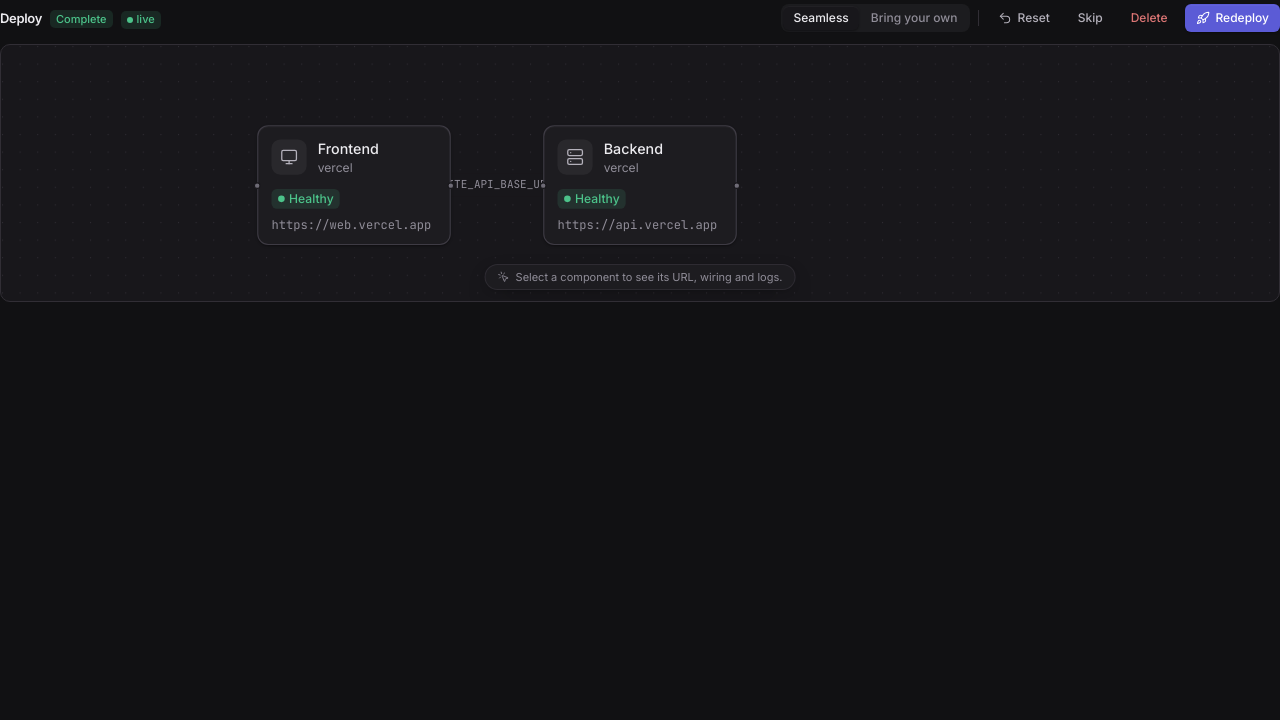
Test: deleting a deployment › deletes on confirm and returns the panel to its un-deployed state
Expected: the button with test id "deploy-run" reads "Redeploy", [1184,4,1279,32]
What coordinates should you click on to do the following:
click the button with test id "deploy-delete"
I would click on:
 (1149, 18)
Its box is [1120,4,1178,32].
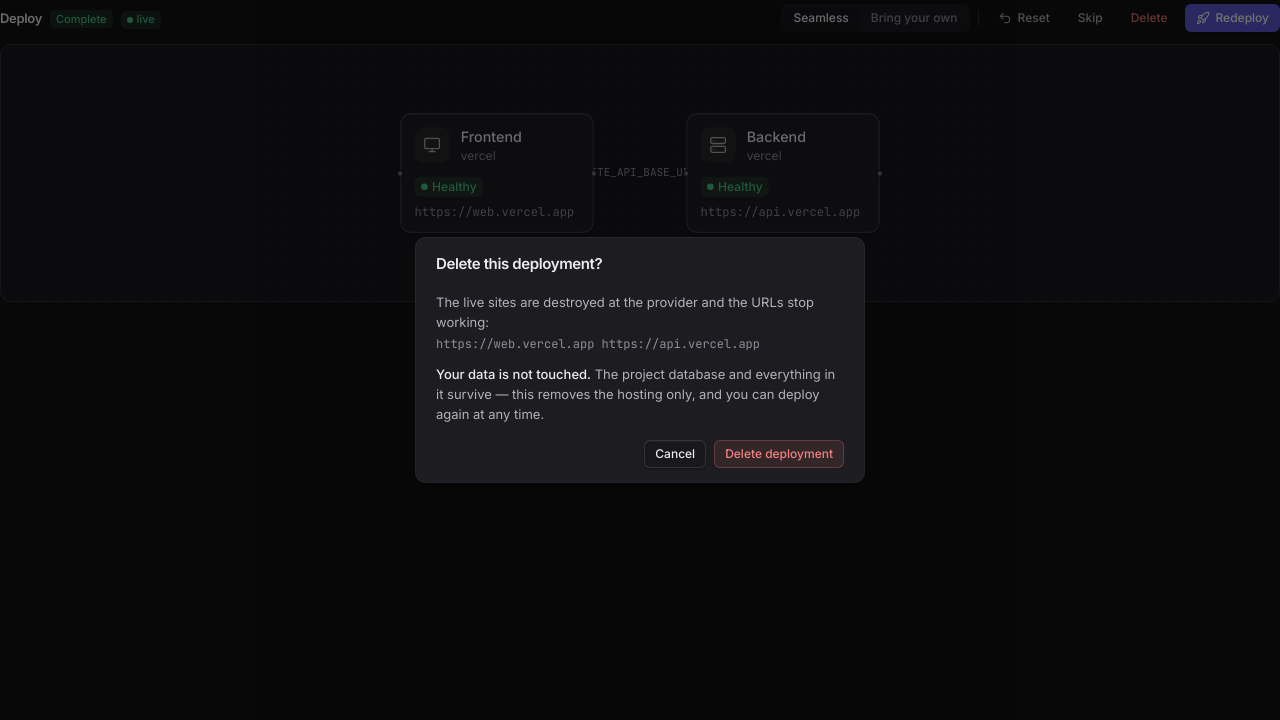
What coordinates should you click on to do the following:
click the button with test id "deploy-delete-confirm"
I would click on:
 (779, 454)
Its box is [714,440,844,468].
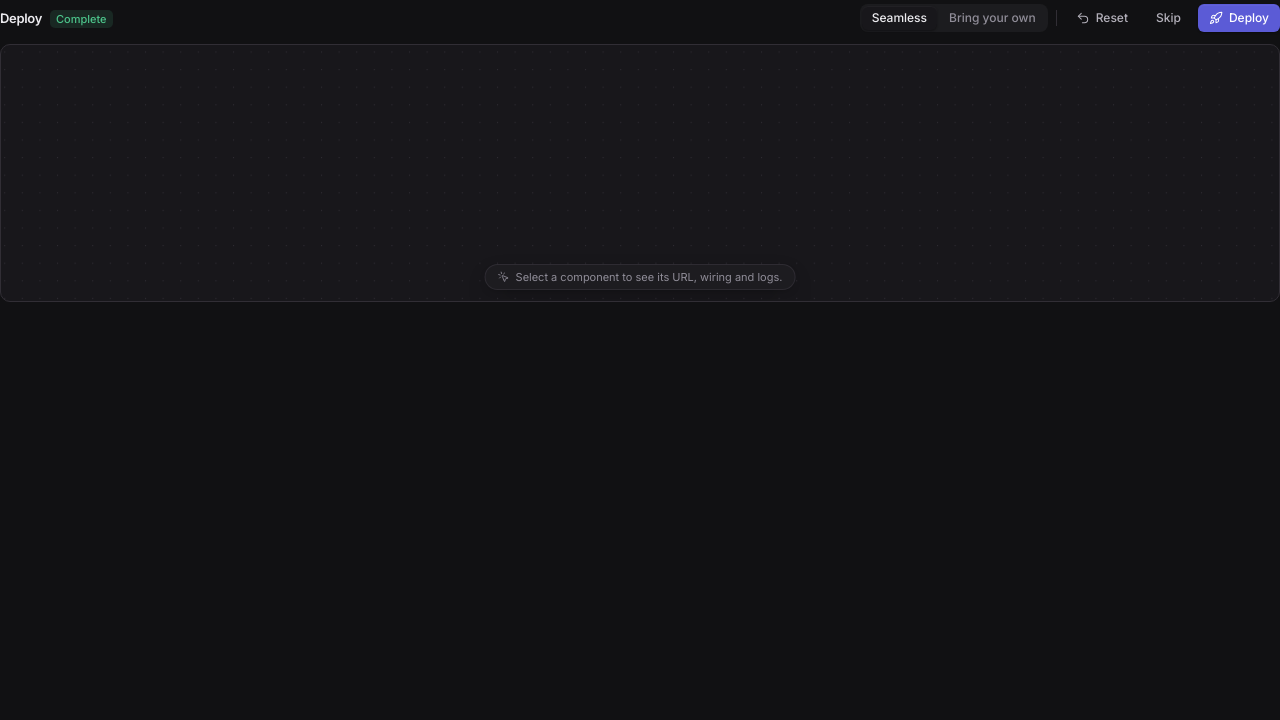
Now the button with test id "deploy-run" reads "Deploy", box [1198,4,1279,32]
Now the button with test id "deploy-delete" is gone
